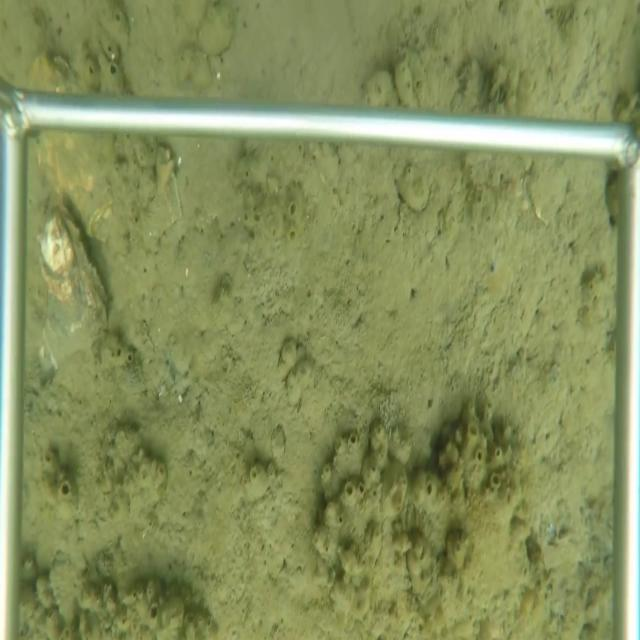Oyster-Closed: (37, 185, 110, 381)
